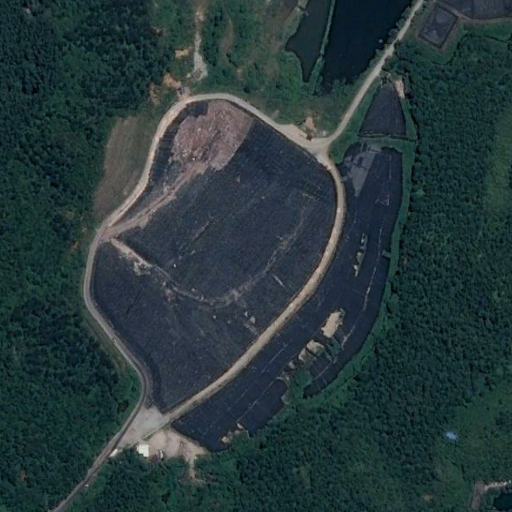lf: (85, 97, 407, 448)
